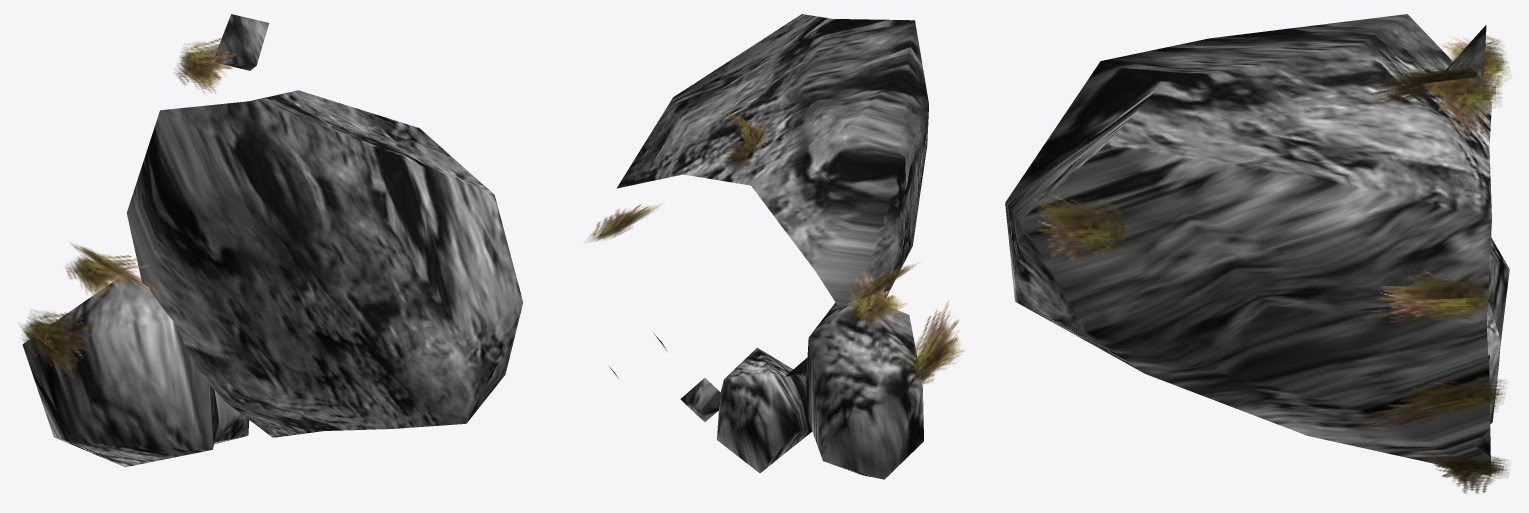
The model's file is Stone02.glb.
The picture shows the model from 3 angles, left to right: view 1: azimuth 30°, elevation 25°; view 2: azimuth 150°, elevation 25°; view 3: azimuth 270°, elevation 25°; orthographic projection. The views are drawn at different scales.
Visible parts, largest first — view 1: model_Stone02; view 2: model_Stone02; view 3: model_Stone02.
Part boxes in pixels (<box>): model_Stone02: <box>20,14,523,467</box>; model_Stone02: <box>586,14,965,479</box>; model_Stone02: <box>1005,14,1510,493</box>.
Size of the model in its own units: 2.55 by 2.78 by 2.78.
2 materials, 2 textured.
